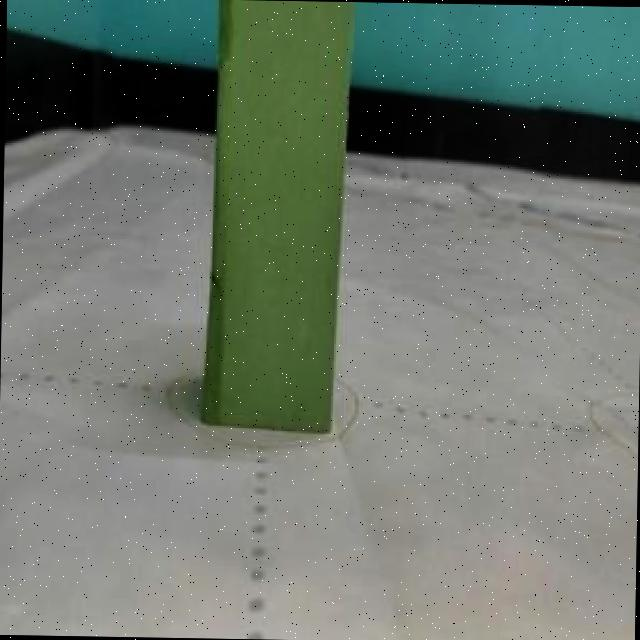greenbox: (205, 0, 356, 435)
